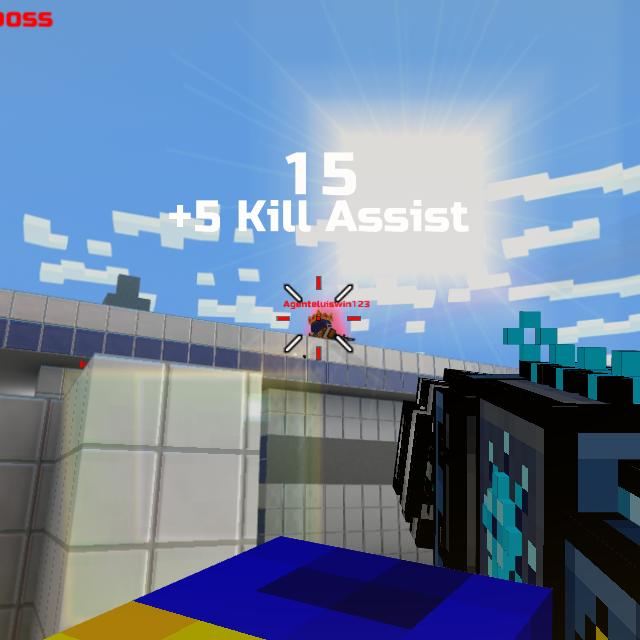Enemy: (308, 313, 336, 340)
